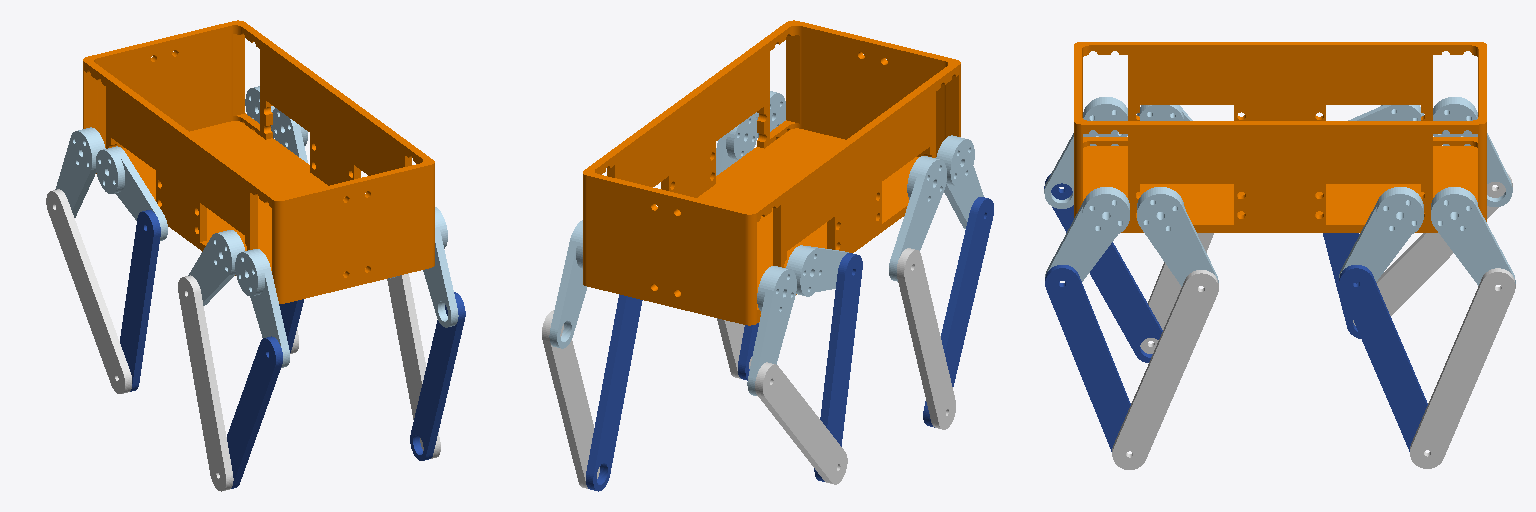
robot.urdf — doggo_v1:
<!--URDF generated by ONSHAPE BY PTC INC, 1.221-->
<robot name="doggo_v1">
    <link name="chassis">
        <inertial>
            <mass value="0.155736" />
            <origin xyz="5.5526e-10 -2.78442e-09 -0.0089888" rpy="0 -0 0" />
            <inertia ixx="0.000675571" ixy="3.42048e-11" ixz="2.33624e-13" iyy="0.000212353" iyz="6.19256e-12" izz="0.000780518" />
        </inertial>
        <visual>
            <origin xyz="0 0 0" rpy="0 -0 0" />
            <geometry>
                <mesh filename="package://doggo_v1/meshes/chassis.stl" scale="1 1 1" />
            </geometry>
            <material name="0.972549_0.529412_0.003922_0.000000_0.000000">
                <color rgba="0.972549 0.529412 0.00392157 1" />
            </material>
        </visual>
    </link>
    <link name="distal_back">
        <inertial>
            <mass value="0.00683705" />
            <origin xyz="-0.002 -0.00767562 -0.0443406" rpy="0.198052 -0 0" />
            <inertia ixx="6.07948e-06" ixy="0" ixz="0" iyy="5.77726e-06" iyz="-9.73788e-07" izz="3.20447e-07" />
        </inertial>
        <visual>
            <origin xyz="-0.004 -0.0386806 0.0275692" rpy="0.198052 -0 0" />
            <geometry>
                <mesh filename="package://doggo_v1/meshes/distal_back.stl" scale="1 1 1" />
            </geometry>
            <material name="0.917647_0.917647_0.917647_0.000000_0.000000">
                <color rgba="0.917647 0.917647 0.917647 1" />
            </material>
        </visual>
    </link>
    <link name="distal_back_1">
        <inertial>
            <mass value="0.00683705" />
            <origin xyz="0.002 -0.014827 -0.0424872" rpy="0.0336978 -0 0" />
            <inertia ixx="6.07948e-06" ixy="0" ixz="0" iyy="5.31683e-06" iyz="-1.80244e-06" izz="7.80884e-07" />
        </inertial>
        <visual>
            <origin xyz="0 -0.0336487 0.0335264" rpy="0.0336978 -0 0" />
            <geometry>
                <mesh filename="package://doggo_v1/meshes/distal_back.stl" scale="1 1 1" />
            </geometry>
            <material name="0.917647_0.917647_0.917647_0.000000_0.000000">
                <color rgba="0.917647 0.917647 0.917647 1" />
            </material>
        </visual>
    </link>
    <link name="distal_back_2">
        <inertial>
            <mass value="0.00683705" />
            <origin xyz="0.002 -0.01625 -0.0419635" rpy="0 -0 0" />
            <inertia ixx="6.07948e-06" ixy="0" ixz="0" iyy="5.19029e-06" iyz="-1.95108e-06" izz="9.07417e-07" />
        </inertial>
        <visual>
            <origin xyz="0 -0.0325 0.034641" rpy="0 -0 0" />
            <geometry>
                <mesh filename="package://doggo_v1/meshes/distal_back.stl" scale="1 1 1" />
            </geometry>
            <material name="0.917647_0.917647_0.917647_0.000000_0.000000">
                <color rgba="0.917647 0.917647 0.917647 1" />
            </material>
        </visual>
    </link>
    <link name="distal_back_3">
        <inertial>
            <mass value="0.00683705" />
            <origin xyz="-0.002 -0.00118348 -0.0449844" rpy="0.343157 -0 0" />
            <inertia ixx="6.07948e-06" ixy="0" ixz="0" iyy="5.94182e-06" iyz="-1.52325e-07" izz="1.55886e-07" />
        </inertial>
        <visual>
            <origin xyz="-0.004 -0.0422605 0.0216864" rpy="0.343157 -0 0" />
            <geometry>
                <mesh filename="package://doggo_v1/meshes/distal_back.stl" scale="1 1 1" />
            </geometry>
            <material name="0.917647_0.917647_0.917647_0.000000_0.000000">
                <color rgba="0.917647 0.917647 0.917647 1" />
            </material>
        </visual>
    </link>
    <link name="distal_back__1__loop_closure">
        <inertial>
            <mass value="1e-09" />
            <origin xyz="0 0 0" rpy="0 -0 0" />
            <inertia ixx="4e-14" ixy="0" ixz="0" iyy="4e-14" iyz="0" izz="4e-14" />
        </inertial>
    </link>
    <link name="distal_back__4__loop_closure">
        <inertial>
            <mass value="1e-09" />
            <origin xyz="0 0 0" rpy="0 -0 0" />
            <inertia ixx="4e-14" ixy="0" ixz="0" iyy="4e-14" iyz="0" izz="4e-14" />
        </inertial>
    </link>
    <link name="distal_front">
        <inertial>
            <mass value="0.00652949" />
            <origin xyz="0.002 0.0154846 -0.0399869" rpy="0 -0 0" />
            <inertia ixx="5.42296e-06" ixy="0" ixz="0" iyy="4.62059e-06" iyz="1.73147e-06" izz="8.19779e-07" />
        </inertial>
        <visual>
            <origin xyz="-0.004 0.0325 0.034641" rpy="0 -0 0" />
            <geometry>
                <mesh filename="package://doggo_v1/meshes/distal_front.stl" scale="1 1 1" />
            </geometry>
            <material name="0.231373_0.380392_0.705882_0.000000_0.000000">
                <color rgba="0.231373 0.380392 0.705882 1" />
            </material>
        </visual>
    </link>
    <link name="distal_front_1">
        <inertial>
            <mass value="0.00652949" />
            <origin xyz="0.002 0.0147727 -0.0402553" rpy="-0.017742 0 0" />
            <inertia ixx="5.42296e-06" ixy="0" ixz="0" iyy="4.68082e-06" iyz="1.66296e-06" izz="7.59548e-07" />
        </inertial>
        <visual>
            <origin xyz="-0.004 0.0331095 0.034059" rpy="-0.017742 0 0" />
            <geometry>
                <mesh filename="package://doggo_v1/meshes/distal_front.stl" scale="1 1 1" />
            </geometry>
            <material name="0.231373_0.380392_0.705882_0.000000_0.000000">
                <color rgba="0.231373 0.380392 0.705882 1" />
            </material>
        </visual>
    </link>
    <link name="distal_front_2">
        <inertial>
            <mass value="0.00652949" />
            <origin xyz="-0.002 -0.00167563 -0.0428476" rpy="-0.408546 0 0" />
            <inertia ixx="5.42296e-06" ixy="0" ixz="0" iyy="5.28324e-06" iyz="-2.00773e-07" izz="1.57133e-07" />
        </inertial>
        <visual>
            <origin xyz="-0.008 0.0435873 0.0188786" rpy="-0.408546 0 0" />
            <geometry>
                <mesh filename="package://doggo_v1/meshes/distal_front.stl" scale="1 1 1" />
            </geometry>
            <material name="0.231373_0.380392_0.705882_0.000000_0.000000">
                <color rgba="0.231373 0.380392 0.705882 1" />
            </material>
        </visual>
    </link>
    <link name="distal_front_3">
        <inertial>
            <mass value="0.00652949" />
            <origin xyz="-0.002 0.0159196 -0.0398157" rpy="0.0109021 -0 0" />
            <inertia ixx="5.42296e-06" ixy="0" ixz="0" iyy="4.58239e-06" iyz="1.7725e-06" izz="8.57981e-07" />
        </inertial>
        <visual>
            <origin xyz="-0.008 0.0321204 0.0349933" rpy="0.0109021 -0 0" />
            <geometry>
                <mesh filename="package://doggo_v1/meshes/distal_front.stl" scale="1 1 1" />
            </geometry>
            <material name="0.231373_0.380392_0.705882_0.000000_0.000000">
                <color rgba="0.231373 0.380392 0.705882 1" />
            </material>
        </visual>
    </link>
    <link name="distal_front__2__loop_closure">
        <inertial>
            <mass value="1e-09" />
            <origin xyz="0 0 0" rpy="0 -0 0" />
            <inertia ixx="4e-14" ixy="0" ixz="0" iyy="4e-14" iyz="0" izz="4e-14" />
        </inertial>
    </link>
    <link name="distal_front__3__loop_closure">
        <inertial>
            <mass value="1e-09" />
            <origin xyz="0 0 0" rpy="0 -0 0" />
            <inertia ixx="4e-14" ixy="0" ixz="0" iyy="4e-14" iyz="0" izz="4e-14" />
        </inertial>
    </link>
    <link name="frame_bl">
        <inertial>
            <mass value="1e-09" />
            <origin xyz="0 0 0" rpy="0 -0 0" />
            <inertia ixx="4e-14" ixy="0" ixz="0" iyy="4e-14" iyz="0" izz="4e-14" />
        </inertial>
    </link>
    <link name="frame_br">
        <inertial>
            <mass value="1e-09" />
            <origin xyz="0 0 0" rpy="0 -0 0" />
            <inertia ixx="4e-14" ixy="0" ixz="0" iyy="4e-14" iyz="0" izz="4e-14" />
        </inertial>
    </link>
    <link name="frame_fl">
        <inertial>
            <mass value="1e-09" />
            <origin xyz="0 0 0" rpy="0 -0 0" />
            <inertia ixx="4e-14" ixy="0" ixz="0" iyy="4e-14" iyz="0" izz="4e-14" />
        </inertial>
    </link>
    <link name="frame_fr">
        <inertial>
            <mass value="1e-09" />
            <origin xyz="0 0 0" rpy="0 -0 0" />
            <inertia ixx="4e-14" ixy="0" ixz="0" iyy="4e-14" iyz="0" izz="4e-14" />
        </inertial>
    </link>
    <link name="proximal_back">
        <inertial>
            <mass value="0.00539074" />
            <origin xyz="0.00492141 0.00571782 -0.00990355" rpy="0 -0 0" />
            <inertia ixx="1.35624e-06" ixy="-3.32462e-08" ixz="5.75842e-08" iyy="9.56048e-07" iyz="4.39515e-07" izz="4.4854e-07" />
        </inertial>
        <visual>
            <origin xyz="0 -0.0125 -1.0842e-19" rpy="0 -0 0" />
            <geometry>
                <mesh filename="package://doggo_v1/meshes/proximal_back.stl" scale="1 1 1" />
            </geometry>
            <material name="0.768627_0.886275_0.952941_0.000000_0.000000">
                <color rgba="0.768627 0.886275 0.952941 1" />
            </material>
        </visual>
    </link>
    <link name="proximal_back_1">
        <inertial>
            <mass value="0.00539074" />
            <origin xyz="0.00492141 0.00571782 -0.00990355" rpy="0 -0 0" />
            <inertia ixx="1.35624e-06" ixy="-3.32462e-08" ixz="5.75842e-08" iyy="9.56048e-07" iyz="4.39515e-07" izz="4.4854e-07" />
        </inertial>
        <visual>
            <origin xyz="0 -0.0125 -1.0842e-19" rpy="0 -0 0" />
            <geometry>
                <mesh filename="package://doggo_v1/meshes/proximal_back.stl" scale="1 1 1" />
            </geometry>
            <material name="0.768627_0.886275_0.952941_0.000000_0.000000">
                <color rgba="0.768627 0.886275 0.952941 1" />
            </material>
        </visual>
    </link>
    <link name="proximal_back_2">
        <inertial>
            <mass value="0.00539074" />
            <origin xyz="0.00492141 0.00571782 -0.00990355" rpy="0 -0 0" />
            <inertia ixx="1.35624e-06" ixy="-3.32462e-08" ixz="5.75842e-08" iyy="9.56048e-07" iyz="4.39515e-07" izz="4.4854e-07" />
        </inertial>
        <visual>
            <origin xyz="0 -0.0125 -1.0842e-19" rpy="0 -0 0" />
            <geometry>
                <mesh filename="package://doggo_v1/meshes/proximal_back.stl" scale="1 1 1" />
            </geometry>
            <material name="0.768627_0.886275_0.952941_0.000000_0.000000">
                <color rgba="0.768627 0.886275 0.952941 1" />
            </material>
        </visual>
    </link>
    <link name="proximal_back_3">
        <inertial>
            <mass value="0.00539074" />
            <origin xyz="0.00492141 0.00571782 -0.00990355" rpy="0 -0 0" />
            <inertia ixx="1.35624e-06" ixy="-3.32462e-08" ixz="5.75842e-08" iyy="9.56048e-07" iyz="4.39515e-07" izz="4.4854e-07" />
        </inertial>
        <visual>
            <origin xyz="0 -0.0125 -1.0842e-19" rpy="0 -0 0" />
            <geometry>
                <mesh filename="package://doggo_v1/meshes/proximal_back.stl" scale="1 1 1" />
            </geometry>
            <material name="0.768627_0.886275_0.952941_0.000000_0.000000">
                <color rgba="0.768627 0.886275 0.952941 1" />
            </material>
        </visual>
    </link>
    <link name="proximal_front">
        <inertial>
            <mass value="0.00539074" />
            <origin xyz="0.00307859 -0.00571782 -0.00990355" rpy="0 -0 0" />
            <inertia ixx="1.35624e-06" ixy="-3.32462e-08" ixz="-5.75842e-08" iyy="9.56048e-07" iyz="-4.39515e-07" izz="4.4854e-07" />
        </inertial>
        <visual>
            <origin xyz="0 0.0125 -1.0842e-19" rpy="0 -0 0" />
            <geometry>
                <mesh filename="package://doggo_v1/meshes/proximal_front.stl" scale="1 1 1" />
            </geometry>
            <material name="0.768627_0.886275_0.952941_0.000000_0.000000">
                <color rgba="0.768627 0.886275 0.952941 1" />
            </material>
        </visual>
    </link>
    <link name="proximal_front_1">
        <inertial>
            <mass value="0.00539074" />
            <origin xyz="0.00307859 -0.00571782 -0.00990355" rpy="0 -0 0" />
            <inertia ixx="1.35624e-06" ixy="-3.32462e-08" ixz="-5.75842e-08" iyy="9.56048e-07" iyz="-4.39515e-07" izz="4.4854e-07" />
        </inertial>
        <visual>
            <origin xyz="0 0.0125 -1.0842e-19" rpy="0 -0 0" />
            <geometry>
                <mesh filename="package://doggo_v1/meshes/proximal_front.stl" scale="1 1 1" />
            </geometry>
            <material name="0.768627_0.886275_0.952941_0.000000_0.000000">
                <color rgba="0.768627 0.886275 0.952941 1" />
            </material>
        </visual>
    </link>
    <link name="proximal_front_2">
        <inertial>
            <mass value="0.00539074" />
            <origin xyz="0.00307859 -0.00571782 -0.00990355" rpy="0 -0 0" />
            <inertia ixx="1.35624e-06" ixy="-3.32462e-08" ixz="-5.75842e-08" iyy="9.56048e-07" iyz="-4.39515e-07" izz="4.4854e-07" />
        </inertial>
        <visual>
            <origin xyz="0 0.0125 -1.0842e-19" rpy="0 -0 0" />
            <geometry>
                <mesh filename="package://doggo_v1/meshes/proximal_front.stl" scale="1 1 1" />
            </geometry>
            <material name="0.768627_0.886275_0.952941_0.000000_0.000000">
                <color rgba="0.768627 0.886275 0.952941 1" />
            </material>
        </visual>
    </link>
    <link name="proximal_front_3">
        <inertial>
            <mass value="0.00539074" />
            <origin xyz="0.00307859 -0.00571782 -0.00990355" rpy="0 -0 0" />
            <inertia ixx="1.35624e-06" ixy="-3.32462e-08" ixz="-5.75842e-08" iyy="9.56048e-07" iyz="-4.39515e-07" izz="4.4854e-07" />
        </inertial>
        <visual>
            <origin xyz="0 0.0125 -1.0842e-19" rpy="0 -0 0" />
            <geometry>
                <mesh filename="package://doggo_v1/meshes/proximal_front.stl" scale="1 1 1" />
            </geometry>
            <material name="0.768627_0.886275_0.952941_0.000000_0.000000">
                <color rgba="0.768627 0.886275 0.952941 1" />
            </material>
        </visual>
    </link>
    <link name="root" />
    <joint name="closing_bl_foot_loop_closure" type="continuous">
        <origin xyz="-0.004 0.033413 -0.0835678" rpy="0.0109021 2.56665e-18 6.26741e-18" />
        <axis xyz="1 0 0" />
        <parent link="distal_front_3" />
        <child link="distal_back__4__loop_closure" />
    </joint>
    <joint name="closing_br_foot_loop_closure" type="continuous">
        <origin xyz="0 -0.0325 -0.0839271" rpy="0 -0 0" />
        <axis xyz="1 -0 -0" />
        <parent link="distal_back_2" />
        <child link="distal_front__2__loop_closure" />
    </joint>
    <joint name="closing_fl_foot_loop_closure" type="continuous">
        <origin xyz="6.93889e-18 -0.00236695 -0.0899689" rpy="0.343157 4.53871e-28 -9.31839e-27" />
        <axis xyz="-1 0 0" />
        <parent link="distal_back_3" />
        <child link="distal_front__3__loop_closure" />
    </joint>
    <joint name="closing_fr_foot_loop_closure" type="continuous">
        <origin xyz="0.004 0.0310059 -0.0844904" rpy="-0.017742 8.1253e-28 6.1189e-27" />
        <axis xyz="-1 0 0" />
        <parent link="distal_front_1" />
        <child link="distal_back__1__loop_closure" />
    </joint>
    <joint name="dof_bl_hipa" type="continuous">
        <origin xyz="-0.045 0.055 -0.015" rpy="1.72008 1.83697e-16 3.14159" />
        <axis xyz="-1 -0 -0" />
        <parent link="chassis" />
        <child link="proximal_front_1" />
    </joint>
    <joint name="dof_bl_hipb" type="continuous">
        <origin xyz="-0.045 0.08 -0.015" rpy="-1.00854 1.83697e-16 -3.14159" />
        <axis xyz="-1 -0 -0" />
        <parent link="chassis" />
        <child link="proximal_back_1" />
    </joint>
    <joint name="dof_br_hipa" type="continuous">
        <origin xyz="0.045 0.055 -0.015" rpy="0 -6.12323e-17 0" />
        <axis xyz="-1 -0 -0" />
        <parent link="chassis" />
        <child link="proximal_front_3" />
    </joint>
    <joint name="dof_br_hipb" type="continuous">
        <origin xyz="0.045 0.08 -0.015" rpy="0 -6.12323e-17 0" />
        <axis xyz="-1 -0 -0" />
        <parent link="chassis" />
        <child link="proximal_back_2" />
    </joint>
    <joint name="dof_fl_hipa" type="continuous">
        <origin xyz="-0.045 -0.08 -0.015" rpy="1.05853 1.83697e-16 -3.14159" />
        <axis xyz="-1 -0 -0" />
        <parent link="chassis" />
        <child link="proximal_front" />
    </joint>
    <joint name="dof_fl_hipb" type="continuous">
        <origin xyz="-0.045 -0.055 -0.015" rpy="-1.24713 1.83697e-16 3.14159" />
        <axis xyz="-1 -0 -0" />
        <parent link="chassis" />
        <child link="proximal_back_3" />
    </joint>
    <joint name="dof_fr_hipa" type="continuous">
        <origin xyz="0.045 -0.08 -0.015" rpy="-0.00216637 -6.12323e-17 -9.58814e-28" />
        <axis xyz="-1 -0 -0" />
        <parent link="chassis" />
        <child link="proximal_front_2" />
    </joint>
    <joint name="dof_fr_hipb" type="continuous">
        <origin xyz="0.045 -0.055 -0.015" rpy="-0.0385113 -6.12323e-17 5.04869e-27" />
        <axis xyz="-1 -0 -0" />
        <parent link="chassis" />
        <child link="proximal_back" />
    </joint>
    <joint name="dof_knee_bl_a" type="continuous">
        <origin xyz="0.004 -0.02 -0.034641" rpy="1.5708 8.81366e-18 -3.14159" />
        <axis xyz="1 0 0" />
        <parent link="proximal_front_1" />
        <child link="distal_front_3" />
    </joint>
    <joint name="dof_knee_bl_b" type="continuous">
        <origin xyz="0.008 0.02 -0.034641" rpy="-1.5708 1.09675e-22 3.14159" />
        <axis xyz="1 0 0" />
        <parent link="proximal_back_1" />
        <child link="distal_back" />
    </joint>
    <joint name="dof_knee_br_a" type="continuous">
        <origin xyz="0.004 -0.02 -0.034641" rpy="0 -0 0" />
        <axis xyz="-1 0 0" />
        <parent link="proximal_front_3" />
        <child link="distal_front" />
    </joint>
    <joint name="dof_knee_br_b" type="continuous">
        <origin xyz="0.008 0.02 -0.034641" rpy="0 -0 0" />
        <axis xyz="-1 0 0" />
        <parent link="proximal_back_2" />
        <child link="distal_back_2" />
    </joint>
    <joint name="dof_knee_fl_a" type="continuous">
        <origin xyz="0.004 -0.02 -0.034641" rpy="1.5708 2.50598e-27 3.14159" />
        <axis xyz="1 0 0" />
        <parent link="proximal_front" />
        <child link="distal_front_2" />
    </joint>
    <joint name="dof_knee_fl_b" type="continuous">
        <origin xyz="0.008 0.02 -0.034641" rpy="-1.5708 4.20606e-27 -3.14159" />
        <axis xyz="1 0 0" />
        <parent link="proximal_back_3" />
        <child link="distal_back_3" />
    </joint>
    <joint name="dof_knee_fr_a" type="continuous">
        <origin xyz="0.004 -0.02 -0.034641" rpy="4.77049e-18 1.12394e-27 -3.24833e-27" />
        <axis xyz="-1 0 0" />
        <parent link="proximal_front_2" />
        <child link="distal_front_1" />
    </joint>
    <joint name="dof_knee_fr_b" type="continuous">
        <origin xyz="0.008 0.02 -0.034641" rpy="-1.94289e-16 -2.60119e-27 -3.218e-27" />
        <axis xyz="-1 0 0" />
        <parent link="proximal_back" />
        <child link="distal_back_1" />
    </joint>
    <joint name="fixed_node_to_root_joint" type="fixed">
        <origin xyz="0 0 0" rpy="0 -0 0" />
        <axis xyz="0 0 1" />
        <parent link="root" />
        <child link="chassis" />
    </joint>
    <joint name="frame_bl" type="fixed">
        <origin xyz="0 -0.0137772 -0.0965247" rpy="1.5708 -0.198052 1.5708" />
        <axis xyz="0 0 1" />
        <parent link="distal_back" />
        <child link="frame_bl" />
    </joint>
    <joint name="frame_br" type="fixed">
        <origin xyz="0 -0.0325 -0.0919271" rpy="-1.5708 -0 1.5708" />
        <axis xyz="0 0 1" />
        <parent link="distal_back_2" />
        <child link="frame_br" />
    </joint>
    <joint name="frame_fl" type="fixed">
        <origin xyz="0 0.00032474 -0.0975024" rpy="1.5708 -0.343157 1.5708" />
        <axis xyz="0 0 1" />
        <parent link="distal_back_3" />
        <child link="frame_fl" />
    </joint>
    <joint name="frame_fr" type="fixed">
        <origin xyz="6.93889e-18 -0.0293844 -0.0929698" rpy="-1.5708 -0.0336978 1.5708" />
        <axis xyz="0 0 1" />
        <parent link="distal_back_1" />
        <child link="frame_fr" />
    </joint>
</robot>

--- What the picture shows (computed from the rendered views, not written in the file) ---
The picture shows the robot from 3 angles, left to right: view 1: azimuth 30°, elevation 25°; view 2: azimuth 150°, elevation 25°; view 3: azimuth 270°, elevation 25°; orthographic projection.
Robot: doggo_v1 — 26 links, 25 joints (20 continuous, 5 fixed); root link root; default pose: all joints at 0.
Visible links, largest first — view 1: chassis, distal_back_3, distal_back, distal_front_3, distal_front_1, distal_front_2, distal_back_1, proximal_front, proximal_front_1, proximal_back_1, proximal_back_3, proximal_front_2 (+2 smaller); view 2: chassis, distal_back_3, distal_front, distal_back, distal_front_3, distal_front_2, distal_back_2, proximal_back_1, proximal_back_3, proximal_back_2, proximal_front, proximal_front_1 (+4 smaller); view 3: chassis, distal_back_1, distal_back_2, distal_front, distal_front_1, distal_front_2, proximal_back_2, proximal_back, proximal_front_2, proximal_front_3, distal_back, proximal_front (+5 smaller).
Link boxes in pixels (x1,y1,x2,y2): chassis: [83, 20, 434, 303]; distal_back_3: [178, 275, 233, 491]; distal_back: [46, 189, 131, 393]; distal_front_3: [120, 210, 160, 391]; distal_front_1: [410, 292, 465, 460]; distal_front_2: [227, 336, 282, 488]; distal_back_1: [387, 273, 440, 458]; proximal_front: [235, 249, 289, 367]; proximal_front_1: [96, 146, 167, 240]; proximal_back_1: [55, 127, 105, 217]; proximal_back_3: [188, 230, 244, 305]; proximal_front_2: [423, 207, 458, 327]; chassis: [583, 20, 960, 325]; distal_back_3: [897, 248, 955, 429]; distal_front: [586, 294, 642, 491]; distal_back: [755, 362, 847, 484]; distal_front_3: [814, 253, 862, 481]; distal_front_2: [923, 197, 993, 427]; distal_back_2: [542, 310, 599, 488]; proximal_back_1: [747, 266, 796, 395]; proximal_back_3: [889, 156, 946, 281]; proximal_back_2: [549, 220, 586, 348]; proximal_front: [936, 135, 983, 228]; proximal_front_1: [786, 245, 848, 296]; chassis: [1074, 42, 1486, 232]; distal_back_1: [1112, 270, 1218, 469]; distal_back_2: [1410, 268, 1515, 468]; distal_front: [1339, 265, 1427, 451]; distal_front_1: [1045, 265, 1130, 451]; distal_front_2: [1044, 174, 1162, 362]; proximal_back_2: [1431, 187, 1515, 285]; proximal_back: [1137, 187, 1218, 286]; proximal_front_2: [1045, 187, 1129, 281]; proximal_front_3: [1339, 187, 1423, 281]; distal_back: [1353, 173, 1512, 325]; proximal_front: [1044, 97, 1127, 208].
Size in the robot's own frame: 0.114 by 0.2164 by 0.1697 metres.
17 mesh visuals loaded from 5 distinct referenced files (5 binary STL).
